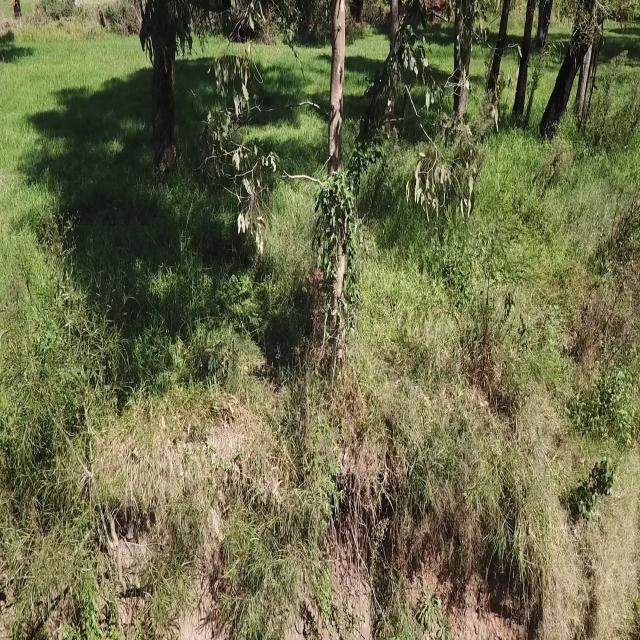Mysore-Thorn-Weed: (197, 295, 265, 399)
